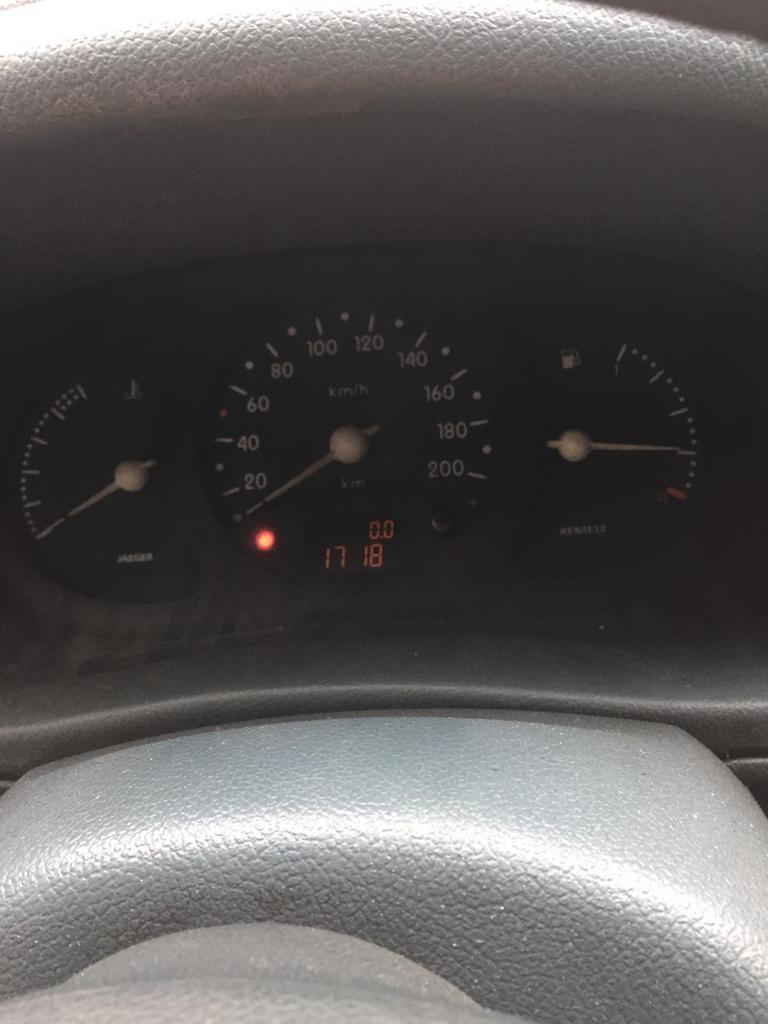,: (379, 535, 383, 540)
0: (383, 519, 394, 540), (368, 519, 379, 539)
1: (359, 543, 368, 567), (322, 546, 331, 569)
7: (333, 544, 347, 569)
8: (368, 542, 383, 568)
odometer: (296, 515, 417, 580)
